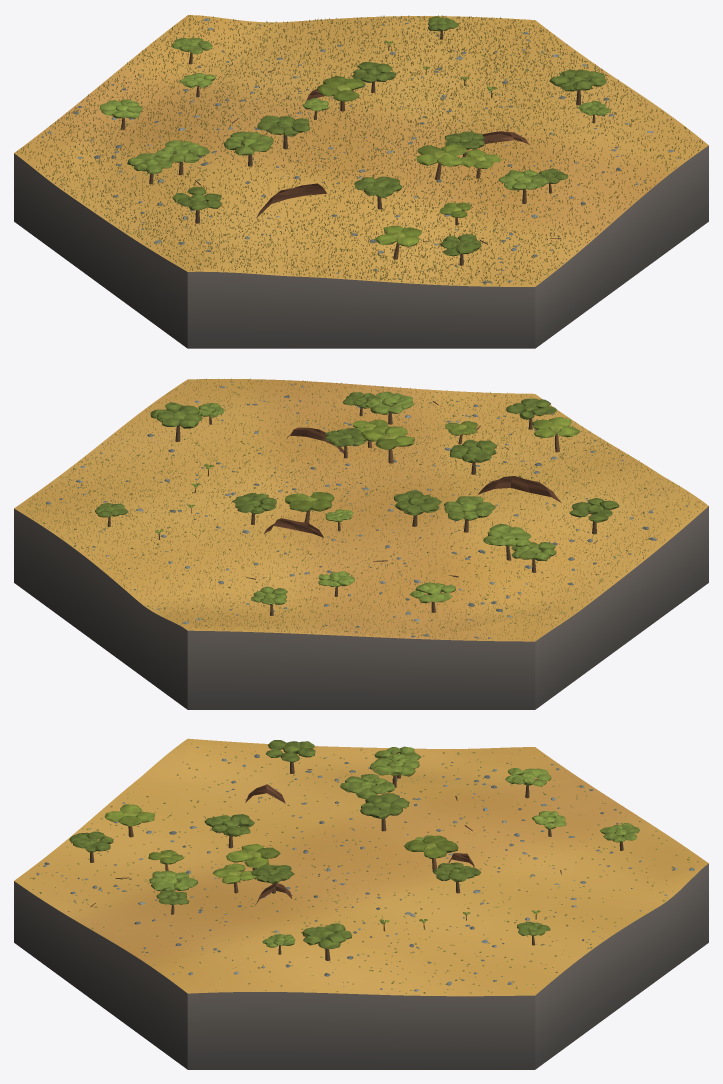
3 views of the same model, one above another, from view 1: azimuth 30°, elevation 25°; view 2: azimuth 150°, elevation 25°; view 3: azimuth 270°, elevation 25° (orthographic).
Parts seen in each view (by area): view 1: terrain, hex_side_cut, wildflowers, broadleaf_canopy, shrubs, boulders, trunks, rock_escarpments; view 2: terrain, hex_side_cut, wildflowers, broadleaf_canopy, shrubs, boulders, rock_escarpments, trunks; view 3: terrain, hex_side_cut, broadleaf_canopy, shrubs, boulders, trunks, rock_escarpments.
Part boxes in pixels (bbox=[...]): terrain: bbox=[14, 15, 708, 286]; hex_side_cut: bbox=[14, 145, 708, 348]; wildflowers: bbox=[17, 15, 702, 286]; broadleaf_canopy: bbox=[99, 16, 610, 256]; shrubs: bbox=[29, 16, 691, 284]; boulders: bbox=[41, 17, 697, 283]; trunks: bbox=[121, 30, 595, 265]; rock_escarpments: bbox=[256, 89, 530, 218]; terrain: bbox=[14, 379, 708, 641]; hex_side_cut: bbox=[14, 506, 708, 709]; wildflowers: bbox=[18, 378, 704, 640]; broadleaf_canopy: bbox=[95, 391, 619, 604]; shrubs: bbox=[27, 380, 696, 639]; boulders: bbox=[39, 381, 687, 638]; rock_escarpments: bbox=[264, 427, 561, 537]; trunks: bbox=[107, 407, 596, 615]; terrain: bbox=[14, 738, 708, 996]; hex_side_cut: bbox=[14, 863, 708, 1069]; broadleaf_canopy: bbox=[69, 740, 639, 948]; shrubs: bbox=[30, 743, 698, 993]; boulders: bbox=[36, 746, 694, 991]; trunks: bbox=[90, 762, 623, 960]; rock_escarpments: bbox=[245, 784, 474, 904].
Size of the model in its own units: 4330 by 869 by 5000.
